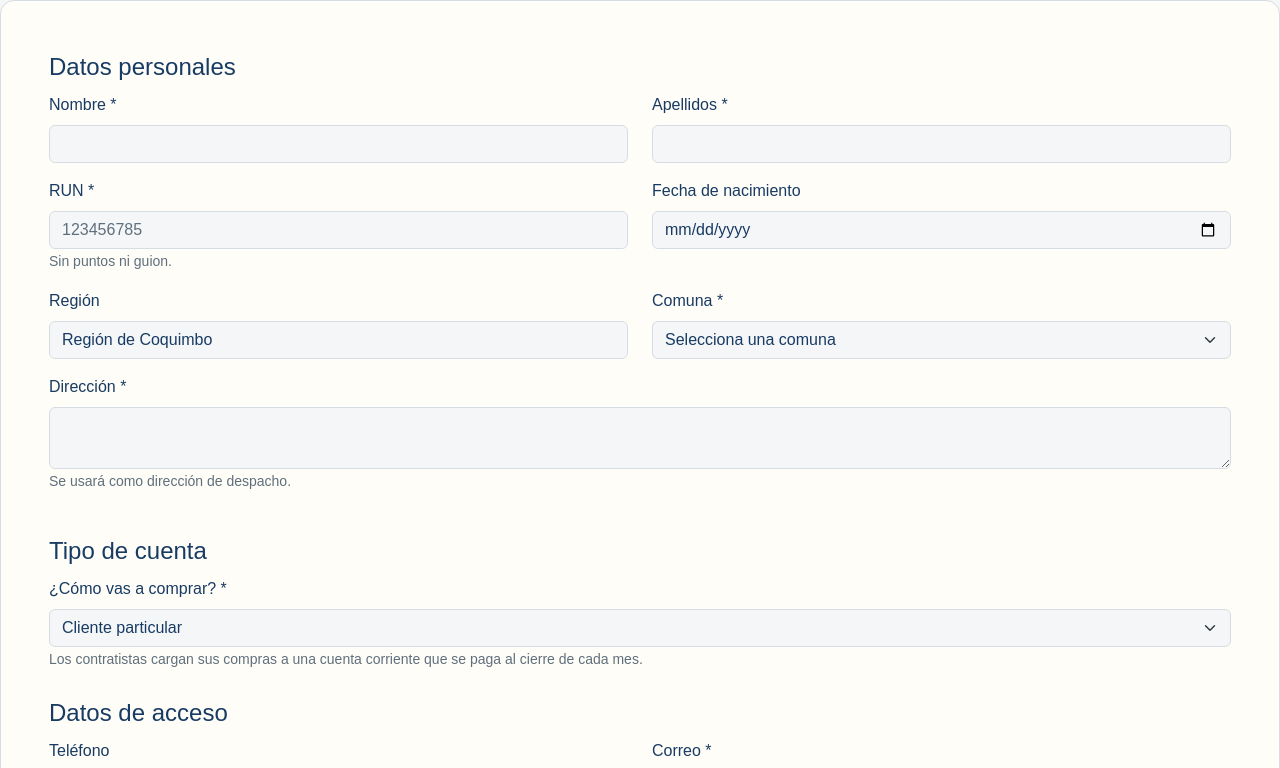
RegistroContainer › muestra los datos de empresa solo para contratistas
Expected: the text "Datos de la empresa" is not shown
Select "Contratista o empresa (con cuenta corriente)" in the dropdown labelled "¿Cómo vas a comprar? *" at (640, 628), box [49, 609, 1231, 647]
(page scrolled)
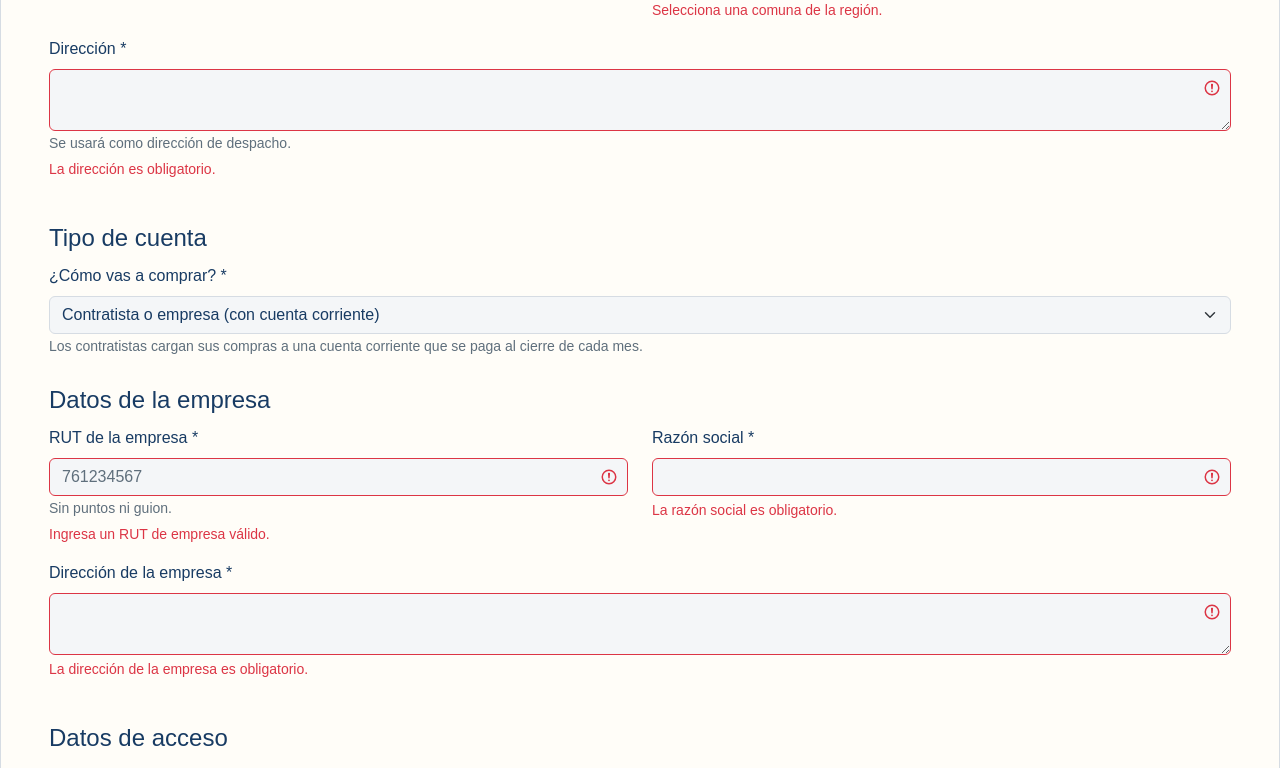
Result: the text "Datos de la empresa" is shown at [49, 386, 270, 413]
